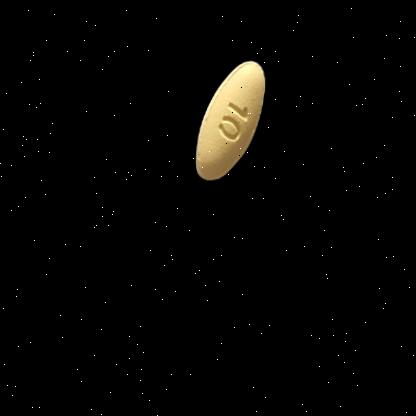tovast10: (182, 53, 279, 206)
